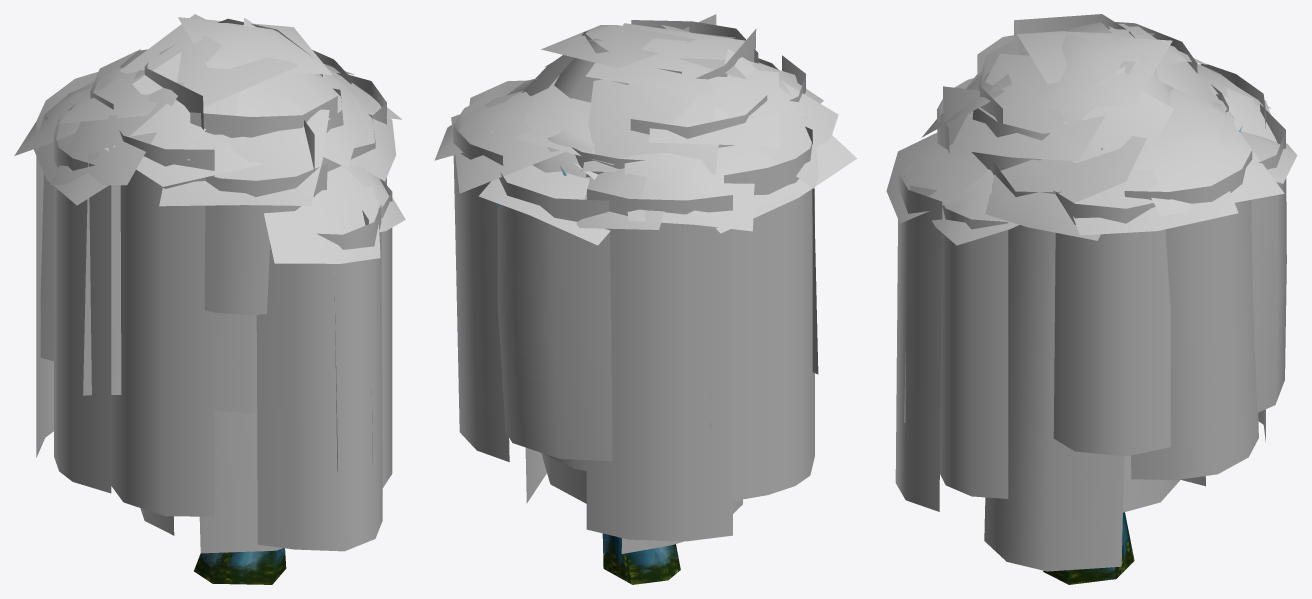
The model's file is G_shu002.fbx.
3 renders of one model, left to right at view 1: azimuth 30°, elevation 25°; view 2: azimuth 150°, elevation 25°; view 3: azimuth 270°, elevation 25°, orthographic. The views are drawn at different scales.
Parts seen in each view (by area): view 1: G_shu002; view 2: G_shu002; view 3: G_shu002.
Boxes of the visible parts, x1,y1,x2,y2 form: G_shu002: (14,14,405,584); G_shu002: (434,14,857,584); G_shu002: (886,14,1297,584).
Size of the model in its own units: 1654 by 2431 by 1729.
